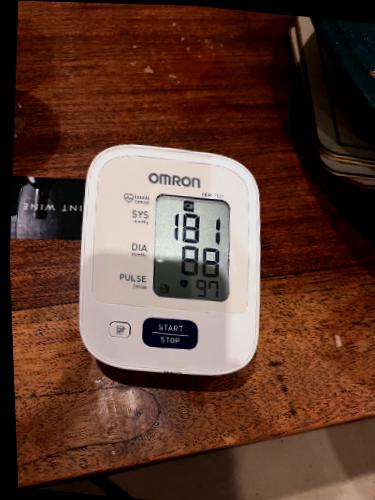bpm: (151, 192, 231, 304)
